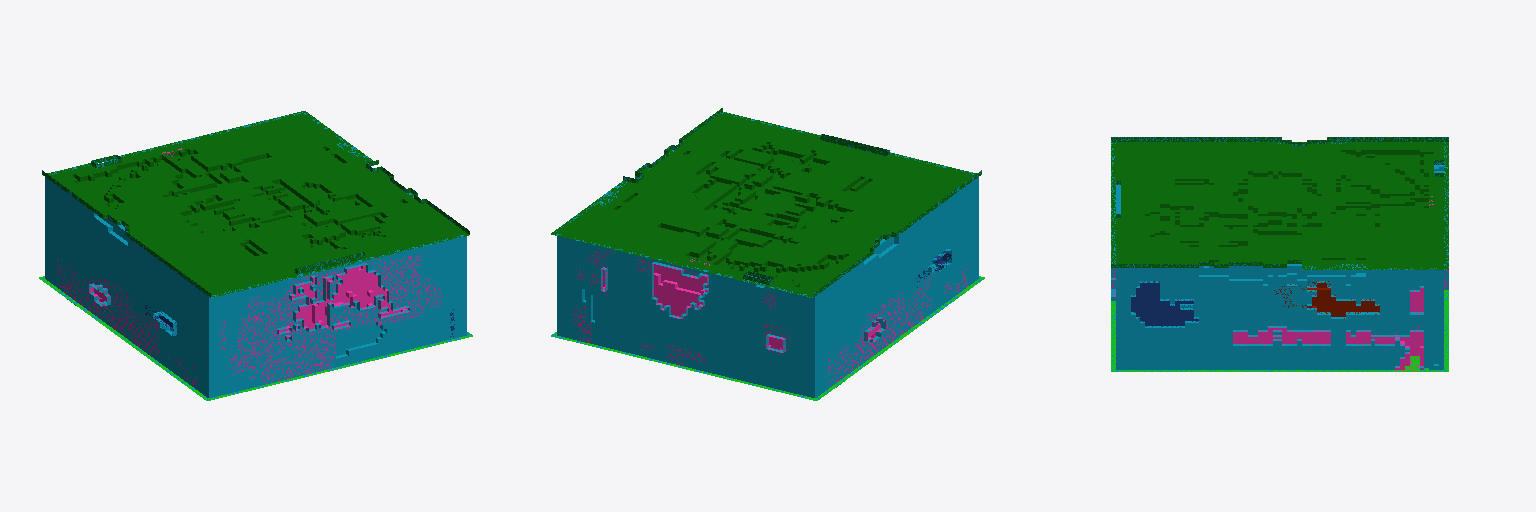
Rendered from Input_prediction.obj.
3 views of the same model, side by side, from view 1: azimuth 30°, elevation 25°; view 2: azimuth 150°, elevation 25°; view 3: azimuth 270°, elevation 25° (orthographic).
Visible parts, largest first — view 1: Cube; view 2: Cube; view 3: Cube.
Part boxes in pixels (bbox=[...]): Cube: bbox=[39, 111, 472, 400]; Cube: bbox=[551, 108, 984, 400]; Cube: bbox=[1111, 137, 1448, 371].
Size of the model in its own units: 5.04 by 2 by 5.52.